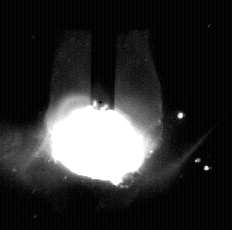arame: (91, 0, 116, 110)
poca: (46, 0, 162, 230)
